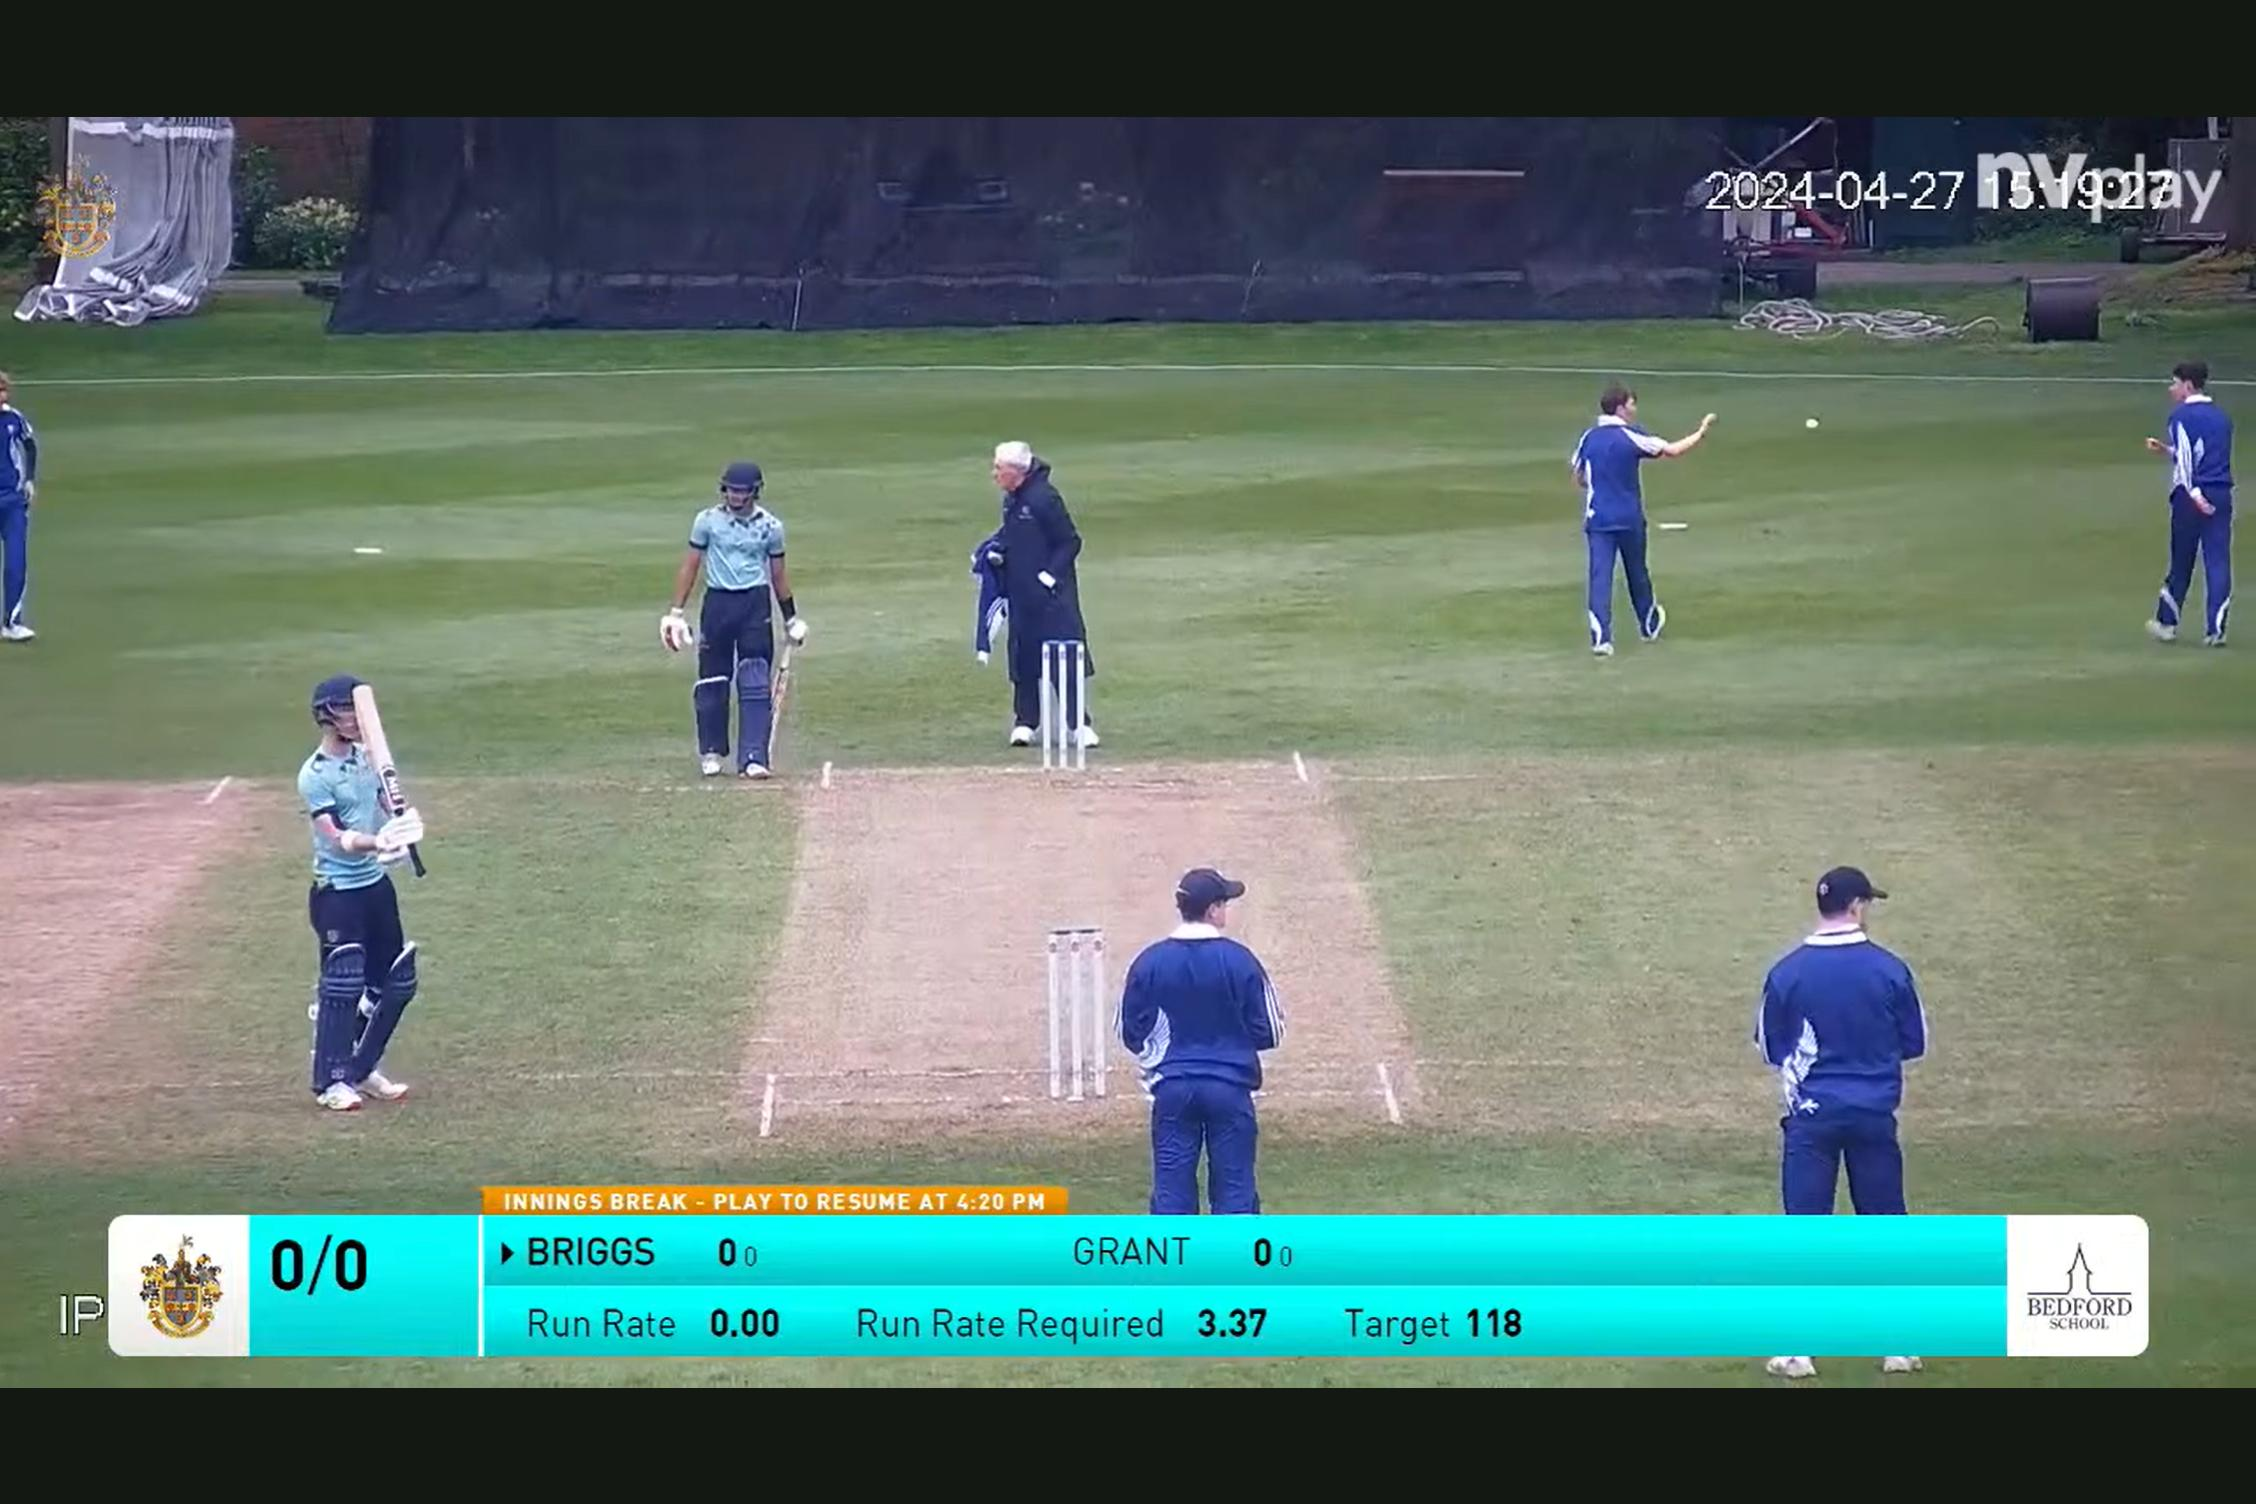batsman: (252, 663, 467, 1104)
bowler walking back: (1551, 383, 1721, 663)
non striker: (656, 428, 834, 802)
umpire: (953, 411, 1115, 668)
wicket keeper: (1121, 826, 1286, 1219)
